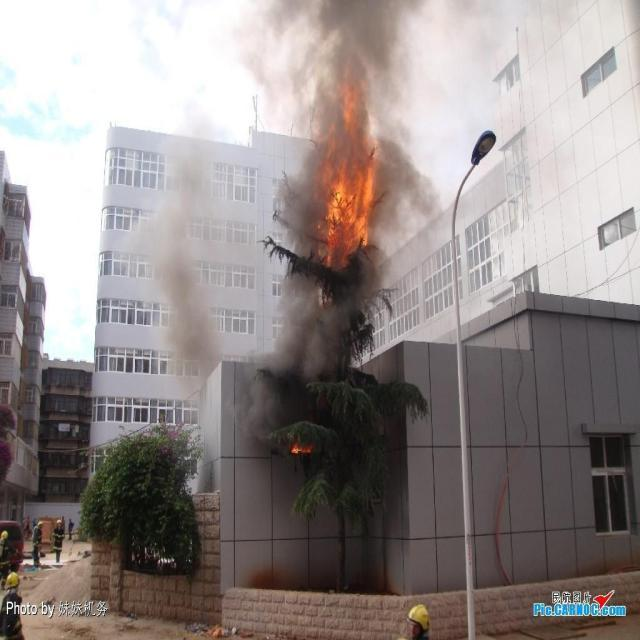Fire: (306, 80, 384, 274), (282, 440, 311, 458)
Smoke: (270, 276, 358, 404), (288, 4, 400, 88), (148, 248, 216, 374), (382, 145, 422, 229)
